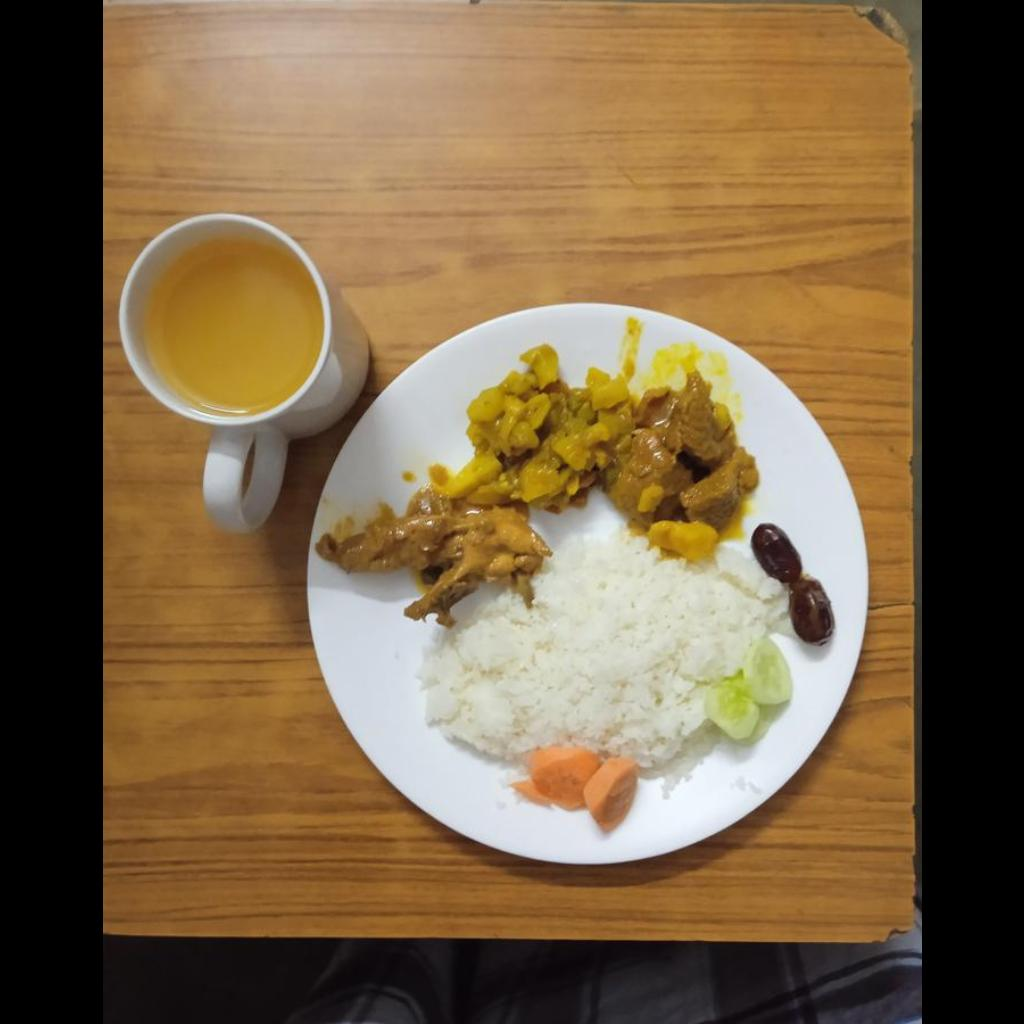beef: (608, 380, 736, 511)
carrot: (510, 746, 638, 832)
chicken: (311, 511, 545, 621)
cucumber: (704, 637, 790, 745)
dates: (747, 528, 833, 645)
juice: (147, 242, 311, 402)
rice: (432, 525, 770, 760)
vegetable: (441, 352, 619, 501)
